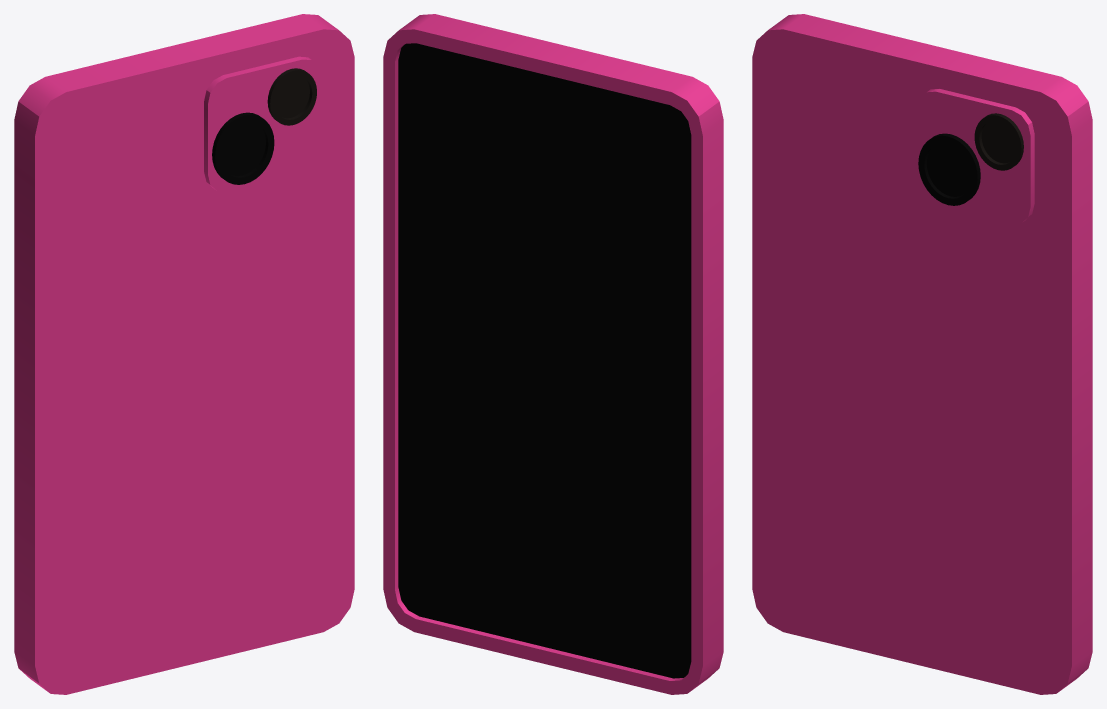
The model's file is Phone.fbx.
The picture shows the model from 3 angles, left to right: view 1: azimuth 30°, elevation 25°; view 2: azimuth 150°, elevation 25°; view 3: azimuth 330°, elevation 25°; orthographic projection.
Parts seen in each view (by area): view 1: Celular, Cylinder.001, Cylinder; view 2: Celular; view 3: Celular, Cylinder.001, Cylinder.
Part boxes in pixels (<box>): Celular: <box>14,14,354,694</box>; Cylinder.001: <box>212,112,274,184</box>; Cylinder: <box>267,68,316,125</box>; Celular: <box>383,14,723,694</box>; Celular: <box>752,14,1092,694</box>; Cylinder.001: <box>918,133,980,205</box>; Cylinder: <box>974,113,1023,170</box>.
Size of the model in its own units: 130 by 234 by 19.54.
